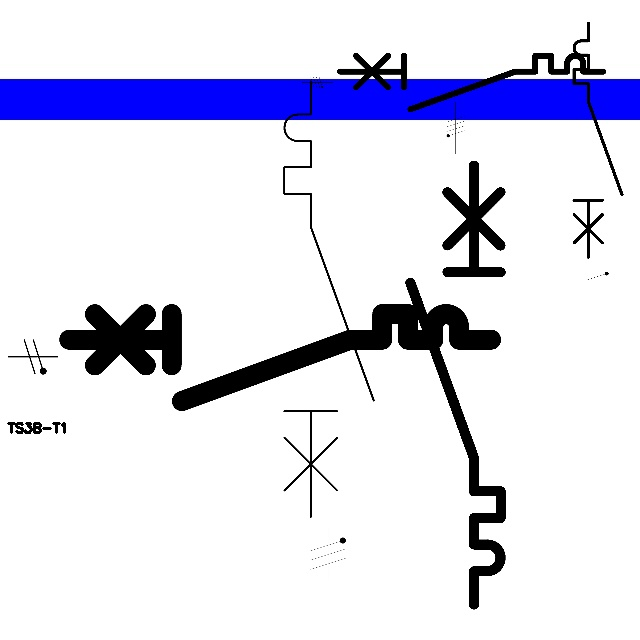interruptor_termomagnetico: (399, 154, 512, 616), (273, 70, 385, 528), (58, 303, 502, 411), (333, 49, 609, 116), (568, 17, 628, 263)
